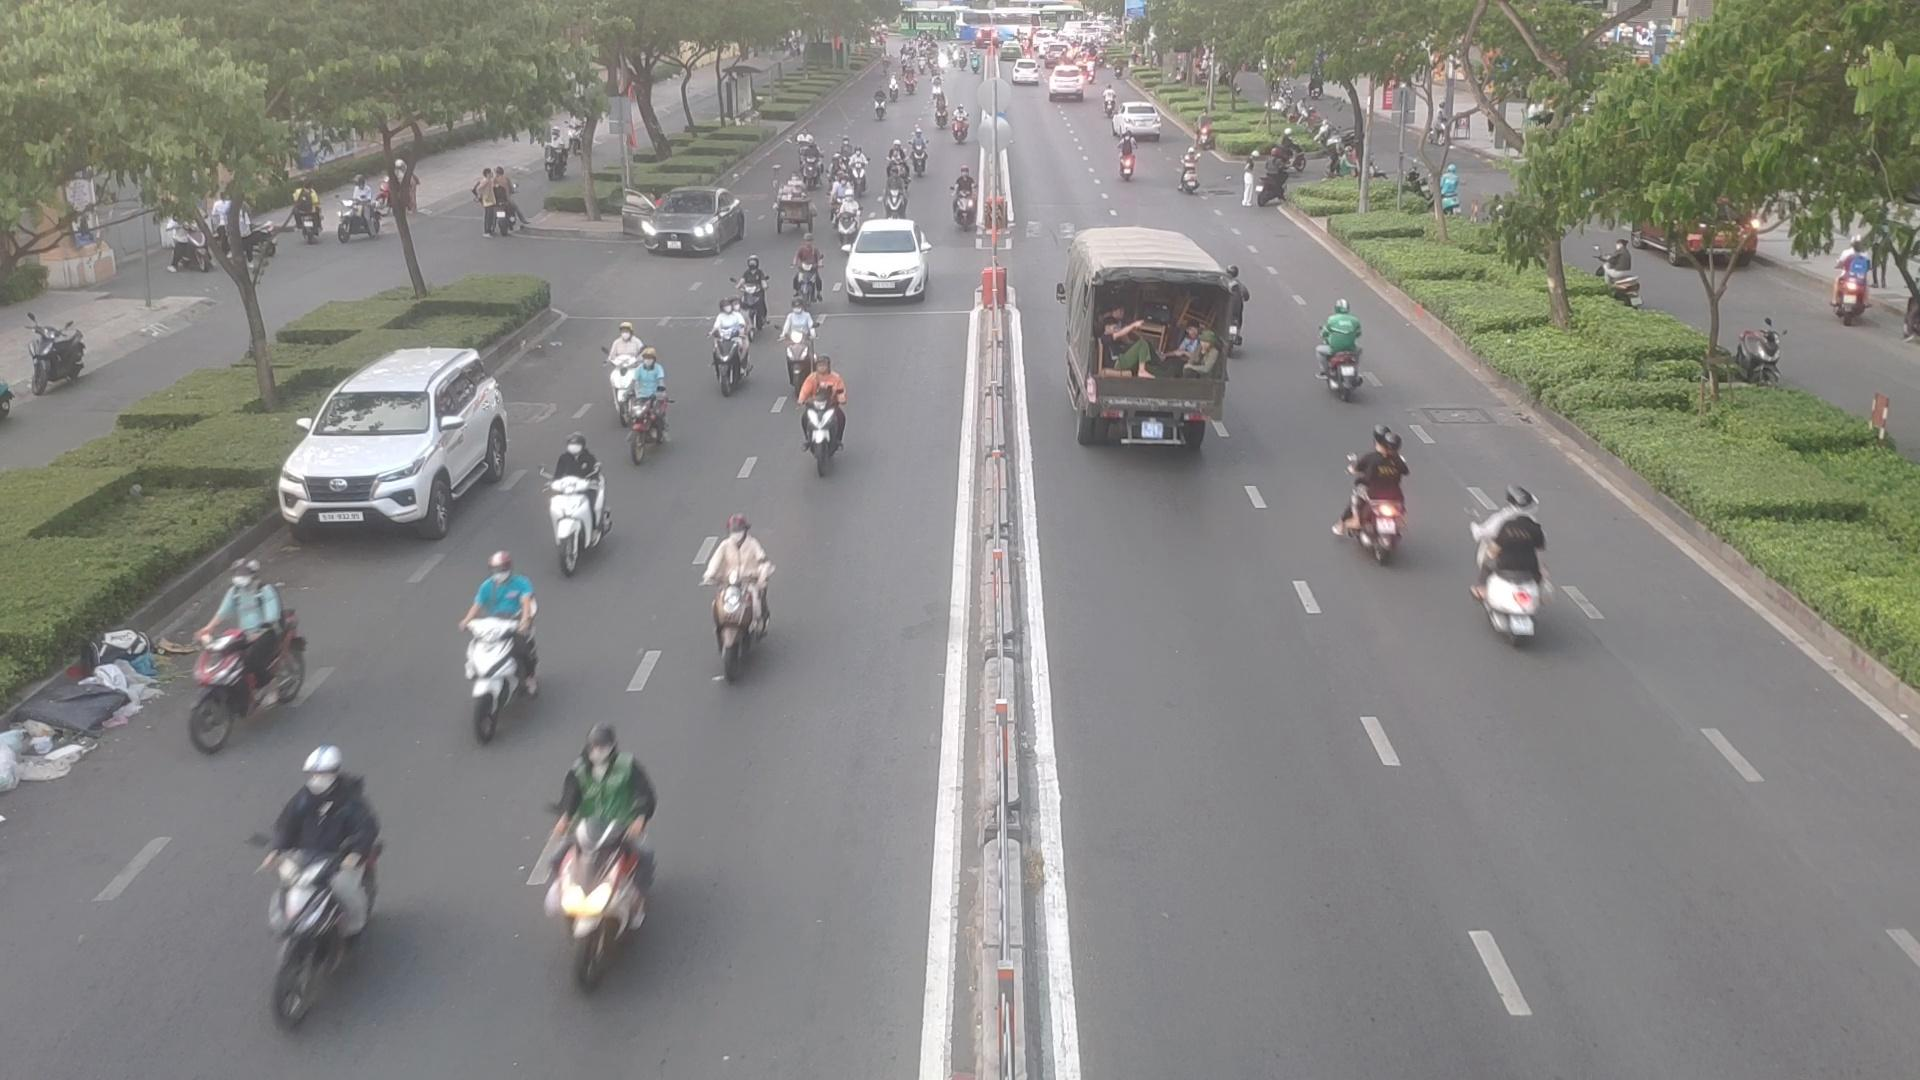car: (280, 351, 513, 542), (1054, 220, 1232, 468), (615, 179, 745, 264), (844, 222, 938, 305)
motorbike: (245, 761, 378, 990), (549, 721, 644, 1011), (189, 535, 281, 736), (688, 500, 767, 694), (465, 541, 537, 736), (1481, 468, 1547, 650), (1338, 425, 1414, 550), (545, 423, 603, 574), (1315, 301, 1379, 419), (800, 353, 851, 484), (593, 319, 647, 415), (632, 351, 675, 458), (707, 309, 749, 393), (738, 252, 778, 327), (1110, 133, 1143, 189), (760, 378, 796, 427), (781, 306, 803, 382), (790, 241, 814, 305), (953, 167, 977, 227), (1179, 145, 1201, 200), (885, 169, 906, 225), (911, 129, 932, 186), (847, 145, 869, 190), (803, 140, 822, 193), (884, 135, 905, 174), (829, 170, 849, 212), (793, 131, 810, 166), (843, 189, 852, 243)
